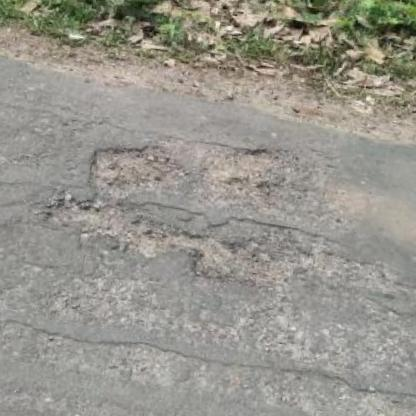pothole: (32, 111, 330, 301)
